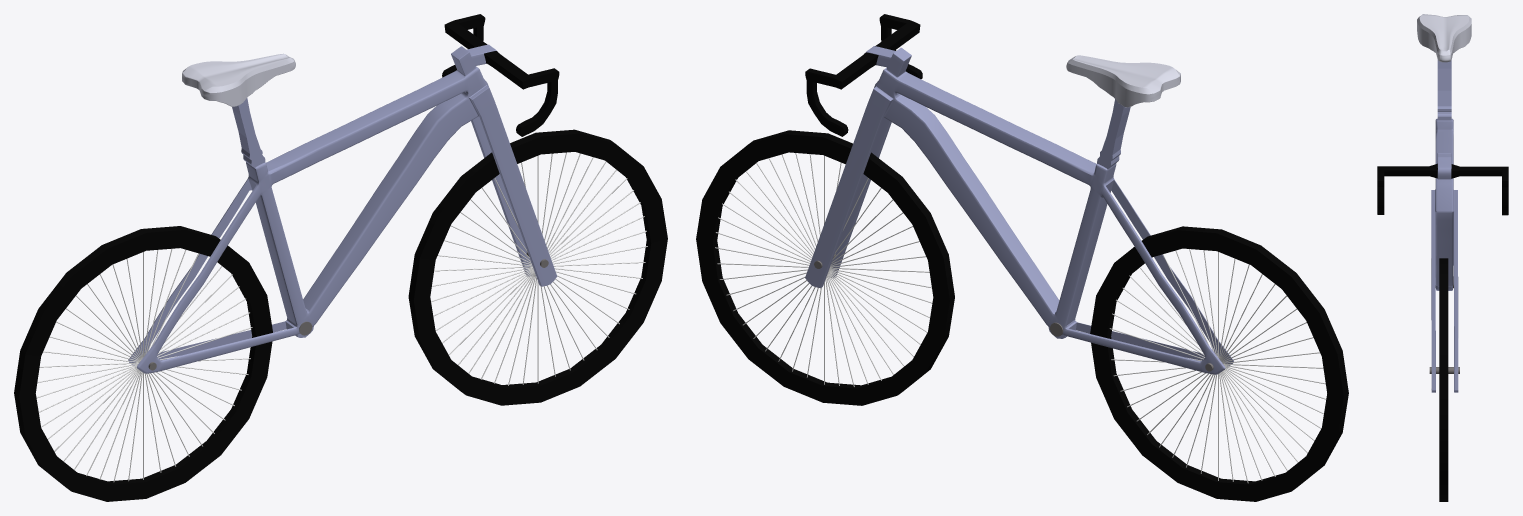
File: bikeModel.fbx
3 views of the same model, side by side, from view 1: azimuth 30°, elevation 25°; view 2: azimuth 150°, elevation 25°; view 3: azimuth 270°, elevation 25° (orthographic). The views are drawn at different scales.
Visible parts, largest first — view 1: pCylinder2 (×2), polySurface1, bikeSeat, polySurface2, polySurface3; view 2: pCylinder2 (×2), polySurface1, bikeSeat, polySurface3, polySurface2; view 3: polySurface1, pCylinder2, bikeSeat, polySurface2, polySurface3.
Part boxes in pixels (<box>): pCylinder2 (×2): <box>14,129,667,501</box>; polySurface1: <box>128,44,557,373</box>; bikeSeat: <box>182,53,295,106</box>; polySurface2: <box>484,51,559,136</box>; polySurface3: <box>442,14,487,77</box>; pCylinder2 (×2): <box>696,130,1348,501</box>; polySurface1: <box>805,46,1233,374</box>; bikeSeat: <box>1066,55,1180,107</box>; polySurface3: <box>805,52,878,136</box>; polySurface2: <box>875,14,922,78</box>; polySurface1: <box>1431,59,1458,392</box>; pCylinder2: <box>1439,258,1448,501</box>; bikeSeat: <box>1417,14,1471,62</box>; polySurface2: <box>1377,163,1437,214</box>; polySurface3: <box>1451,164,1508,215</box>.
Size of the model in its own units: 11.56 by 6.9 by 2.42.
